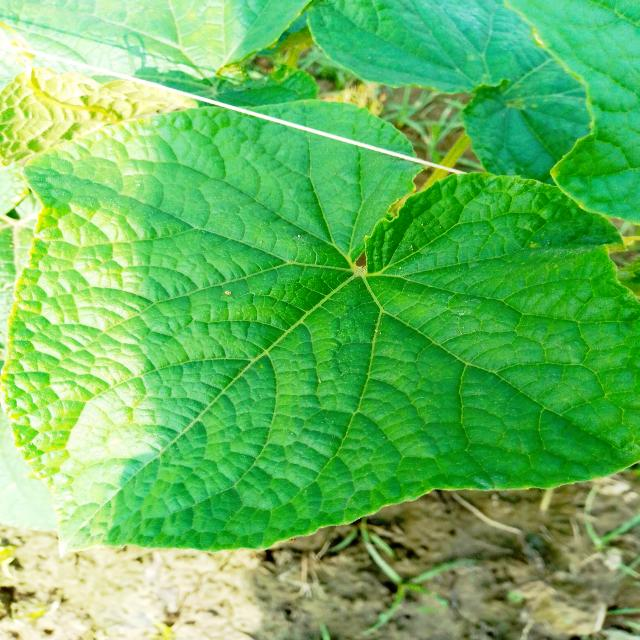Fresh-Leaf: (0, 102, 640, 552), (302, 0, 597, 183)
